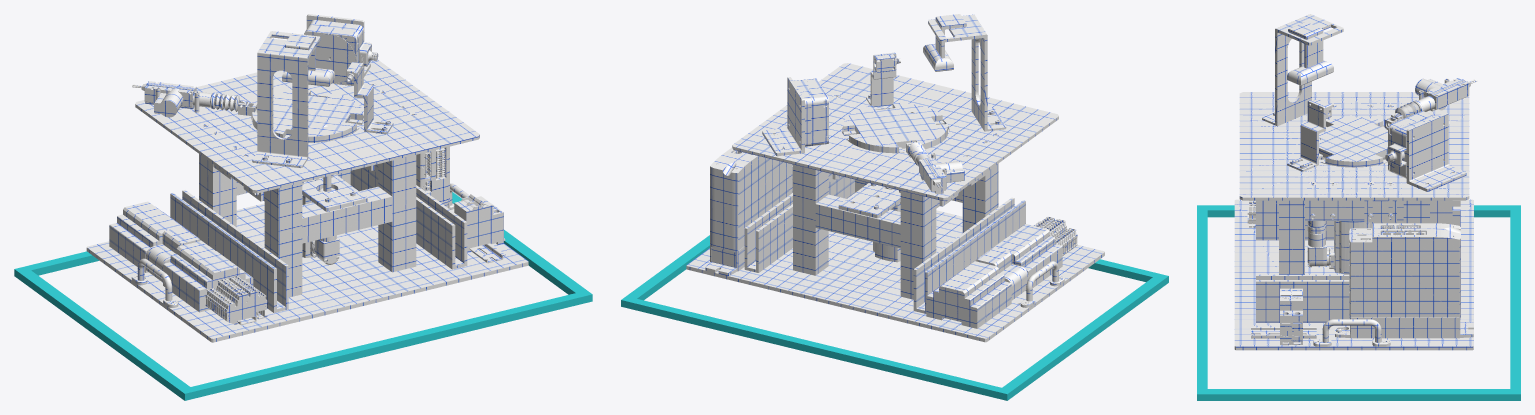
Rendered from Blue mechanism kit with grid texture.fbx.
3 views of the same model, side by side, from view 1: azimuth 30°, elevation 25°; view 2: azimuth 150°, elevation 25°; view 3: azimuth 270°, elevation 25° (orthographic). The views are drawn at different scales.
Parts seen in each view (by area): view 1: test-kit asm - test-kit asm.stp-1 BASE-PLATE.stp-1, test-kit asm - test-kit asm.stp-1 PLATE-FOR-PERIPHERALS.stp-, test-kit asm - test-kit asm.stp-1 STAND-2 ASM.stp-1 LEG.stp-, Plane, test-kit asm - test-kit asm.stp-1 5340814CMMTASC23APNS1 ASM, test-kit asm - test-kit asm.stp-1 CAMER.stp-1, test-kit asm - test-kit asm.stp-1 RFID-ASM ASM.stp-1 CAD665., test-kit asm - test-kit asm.stp-1 MAGNET-GRIPPER.stp-1, test-kit asm - test-kit asm.stp-1 USONIC-SENSOR-ASM ASM.stp-, test-kit asm - test-kit asm.stp-1 UWANGF80 5 ASM.stp-2 SHFBS; view 2: test-kit asm - test-kit asm.stp-1 BASE-PLATE.stp-1, test-kit asm - test-kit asm.stp-1 PLATE-FOR-PERIPHERALS.stp-, test-kit asm - test-kit asm.stp-1 STAND-2 ASM.stp-1 LEG.stp-, test-kit asm - test-kit asm.stp-1 5340814CMMTASC23APNS1 ASM, Plane, test-kit asm - test-kit asm.stp-1 CAMER.stp-1, test-kit asm - test-kit asm.stp-1 RFID-ASM ASM.stp-1 CAD665., test-kit asm - test-kit asm.stp-1 MAGNET-GRIPPER.stp-1, test-kit asm - test-kit asm.stp-1 USONIC-SENSOR-ASM ASM.stp-, test-kit asm - test-kit asm.stp-1 UWANGF80 5 ASM.stp-2 SHFBS; view 3: test-kit asm - test-kit asm.stp-1 PLATE-FOR-PERIPHERALS.stp-, test-kit asm - test-kit asm.stp-1 5340814CMMTASC23APNS1 ASM, test-kit asm - test-kit asm.stp-1 BASE-PLATE.stp-1, Plane, test-kit asm - test-kit asm.stp-1 CAMER.stp-1, test-kit asm - test-kit asm.stp-1 STAND-2 ASM.stp-1 LEG.stp-, test-kit asm - test-kit asm.stp-1 MAGNET-GRIPPER.stp-1, test-kit asm - test-kit asm.stp-1 USONIC-SENSOR-ASM ASM.stp-, test-kit asm - test-kit asm.stp-1 RFID-ASM ASM.stp-1 CAD665., test-kit asm - test-kit asm.stp-1 UWANGF80 5 ASM.stp-2 SHFBS.
Boxes of the visible parts, x1,y1,x2,y2 form: test-kit asm - test-kit asm.stp-1 BASE-PLATE.stp-1: (86, 190, 528, 342); test-kit asm - test-kit asm.stp-1 PLATE-FOR-PERIPHERALS.stp-: (135, 14, 479, 264); test-kit asm - test-kit asm.stp-1 STAND-2 ASM.stp-1 LEG.stp-: (199, 154, 416, 297); Plane: (14, 192, 592, 400); test-kit asm - test-kit asm.stp-1 5340814CMMTASC23APNS1 ASM: (350, 146, 505, 269); test-kit asm - test-kit asm.stp-1 CAMER.stp-1: (252, 31, 334, 168); test-kit asm - test-kit asm.stp-1 RFID-ASM ASM.stp-1 CAD665.: (304, 20, 378, 85); test-kit asm - test-kit asm.stp-1 MAGNET-GRIPPER.stp-1: (132, 81, 257, 117); test-kit asm - test-kit asm.stp-1 USONIC-SENSOR-ASM ASM.stp-: (346, 62, 393, 134); test-kit asm - test-kit asm.stp-1 UWANGF80 5 ASM.stp-2 SHFBS: (131, 183, 469, 307); test-kit asm - test-kit asm.stp-1 BASE-PLATE.stp-1: (686, 197, 1104, 342); test-kit asm - test-kit asm.stp-1 PLATE-FOR-PERIPHERALS.stp-: (732, 63, 1058, 262); test-kit asm - test-kit asm.stp-1 STAND-2 ASM.stp-1 LEG.stp-: (793, 163, 998, 299); test-kit asm - test-kit asm.stp-1 5340814CMMTASC23APNS1 ASM: (705, 147, 854, 275); Plane: (621, 235, 1168, 400); test-kit asm - test-kit asm.stp-1 CAMER.stp-1: (923, 14, 1006, 131); test-kit asm - test-kit asm.stp-1 RFID-ASM ASM.stp-1 CAD665.: (793, 78, 828, 146); test-kit asm - test-kit asm.stp-1 MAGNET-GRIPPER.stp-1: (906, 142, 964, 194); test-kit asm - test-kit asm.stp-1 USONIC-SENSOR-ASM ASM.stp-: (866, 52, 900, 107); test-kit asm - test-kit asm.stp-1 UWANGF80 5 ASM.stp-2 SHFBS: (1020, 261, 1064, 307); test-kit asm - test-kit asm.stp-1 PLATE-FOR-PERIPHERALS.stp-: (1239, 92, 1469, 274); test-kit asm - test-kit asm.stp-1 5340814CMMTASC23APNS1 ASM: (1251, 223, 1473, 345); test-kit asm - test-kit asm.stp-1 BASE-PLATE.stp-1: (1234, 199, 1473, 350); Plane: (1197, 205, 1520, 400); test-kit asm - test-kit asm.stp-1 CAMER.stp-1: (1262, 14, 1343, 126); test-kit asm - test-kit asm.stp-1 STAND-2 ASM.stp-1 LEG.stp-: (1279, 200, 1429, 274); test-kit asm - test-kit asm.stp-1 MAGNET-GRIPPER.stp-1: (1384, 78, 1476, 129); test-kit asm - test-kit asm.stp-1 USONIC-SENSOR-ASM ASM.stp-: (1287, 99, 1331, 171); test-kit asm - test-kit asm.stp-1 RFID-ASM ASM.stp-1 CAD665.: (1385, 111, 1436, 178); test-kit asm - test-kit asm.stp-1 UWANGF80 5 ASM.stp-2 SHFBS: (1313, 319, 1390, 346).
Bounding box in the file's own units: 68.13 × 44.23 × 49.34.
Materials: 2 (1 with a texture image).
